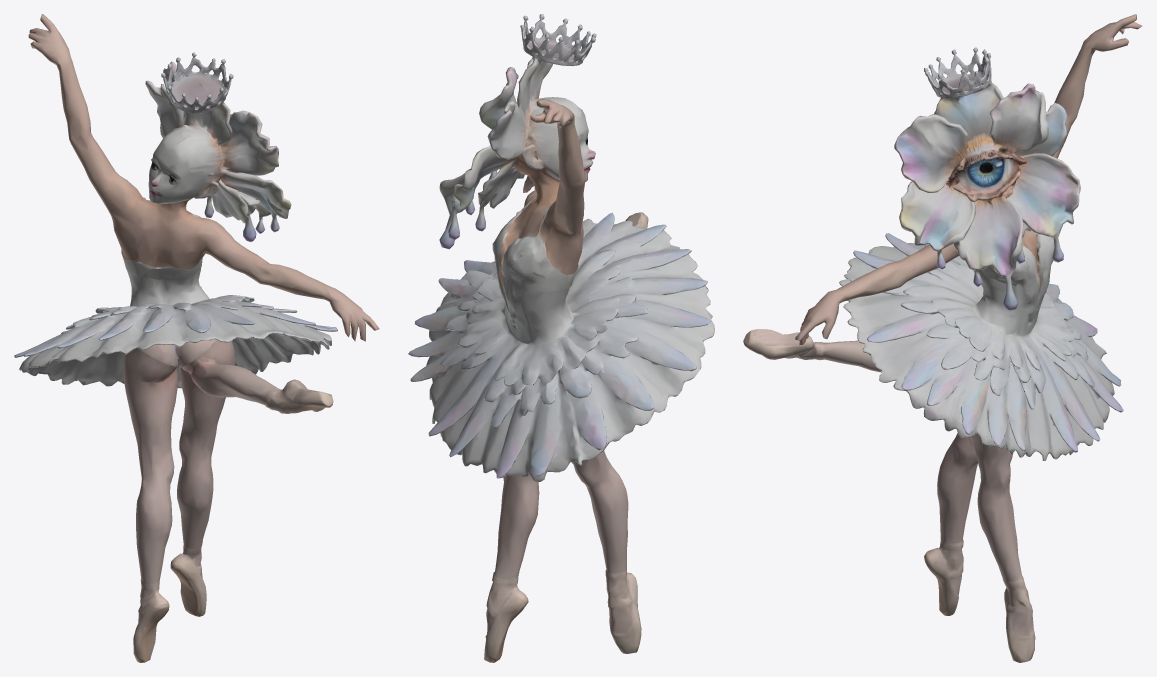
Rendered from odette.glb.
3 renders of one model, left to right at view 1: azimuth 30°, elevation 25°; view 2: azimuth 150°, elevation 25°; view 3: azimuth 270°, elevation 25°, orthographic. The views are drawn at different scales.
Visible parts, largest first — view 1: tripo_node_03f32aad-8d67-44fb-8104-3b313c5270d1; view 2: tripo_node_03f32aad-8d67-44fb-8104-3b313c5270d1; view 3: tripo_node_03f32aad-8d67-44fb-8104-3b313c5270d1.
Part boxes in pixels (<box>): tripo_node_03f32aad-8d67-44fb-8104-3b313c5270d1: <box>14,14,379,662</box>; tripo_node_03f32aad-8d67-44fb-8104-3b313c5270d1: <box>408,14,714,662</box>; tripo_node_03f32aad-8d67-44fb-8104-3b313c5270d1: <box>743,14,1142,662</box>.
Bounding box in the file's own units: 0.5012 × 1 × 0.6062.
1 material, 1 textured.
